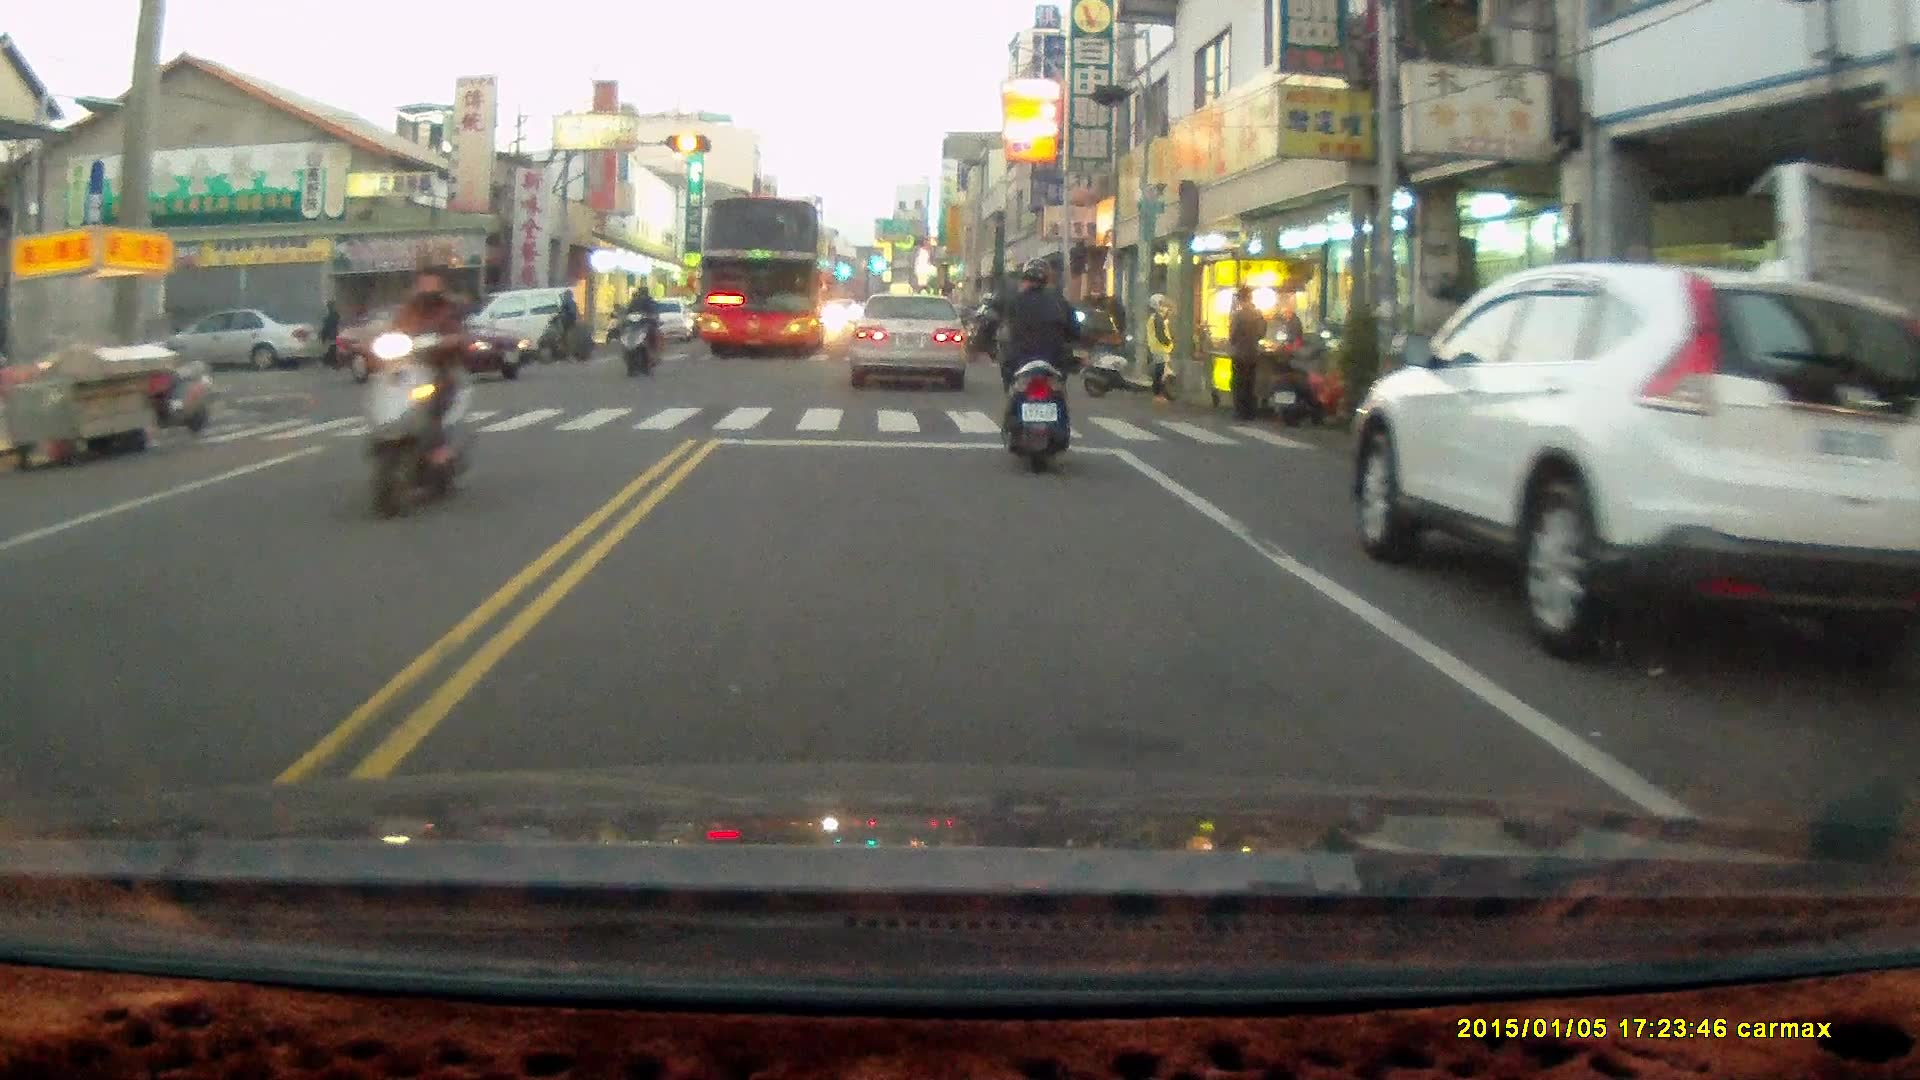pedestrian: (1226, 283, 1266, 426), (1140, 288, 1177, 405), (317, 297, 341, 368)
rider: (338, 239, 478, 520), (986, 255, 1085, 470), (533, 286, 594, 364), (962, 286, 1015, 364), (618, 282, 662, 375)
vehicle: (1349, 256, 1906, 664), (691, 197, 830, 365), (338, 299, 527, 382), (445, 284, 590, 374), (850, 290, 971, 389), (146, 311, 308, 375)
